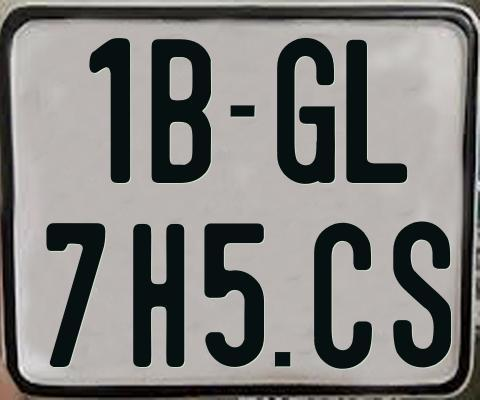1: (89, 36, 131, 183)
5: (204, 221, 267, 368)
7: (46, 221, 106, 370)
B: (151, 39, 216, 184)
C: (311, 222, 371, 372)
G: (276, 38, 339, 186)
H: (131, 224, 182, 371)
L: (344, 38, 405, 187)
S: (390, 219, 450, 367)
